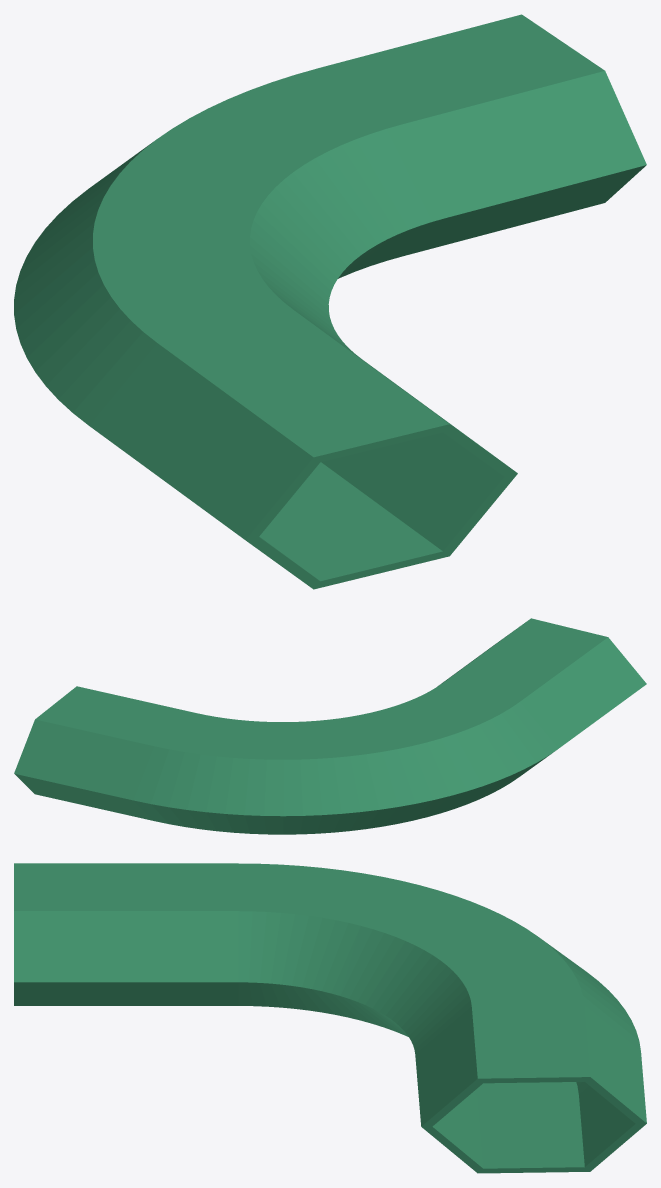
3 views of the same model, one above another, from view 1: azimuth 30°, elevation 25°; view 2: azimuth 150°, elevation 25°; view 3: azimuth 270°, elevation 25° (orthographic). The views are drawn at different scales.
Visible parts, largest first — view 1: Mesh_Mesh_head_geo.001_lambert2SG.001; view 2: Mesh_Mesh_head_geo.001_lambert2SG.001; view 3: Mesh_Mesh_head_geo.001_lambert2SG.001.
Boxes of the visible parts, box(x1,y1,x2,y2) form: Mesh_Mesh_head_geo.001_lambert2SG.001: box(14, 14, 646, 589); Mesh_Mesh_head_geo.001_lambert2SG.001: box(14, 618, 646, 834); Mesh_Mesh_head_geo.001_lambert2SG.001: box(14, 863, 646, 1173).
Bounding box in the file's own units: 174 × 32 × 194.
